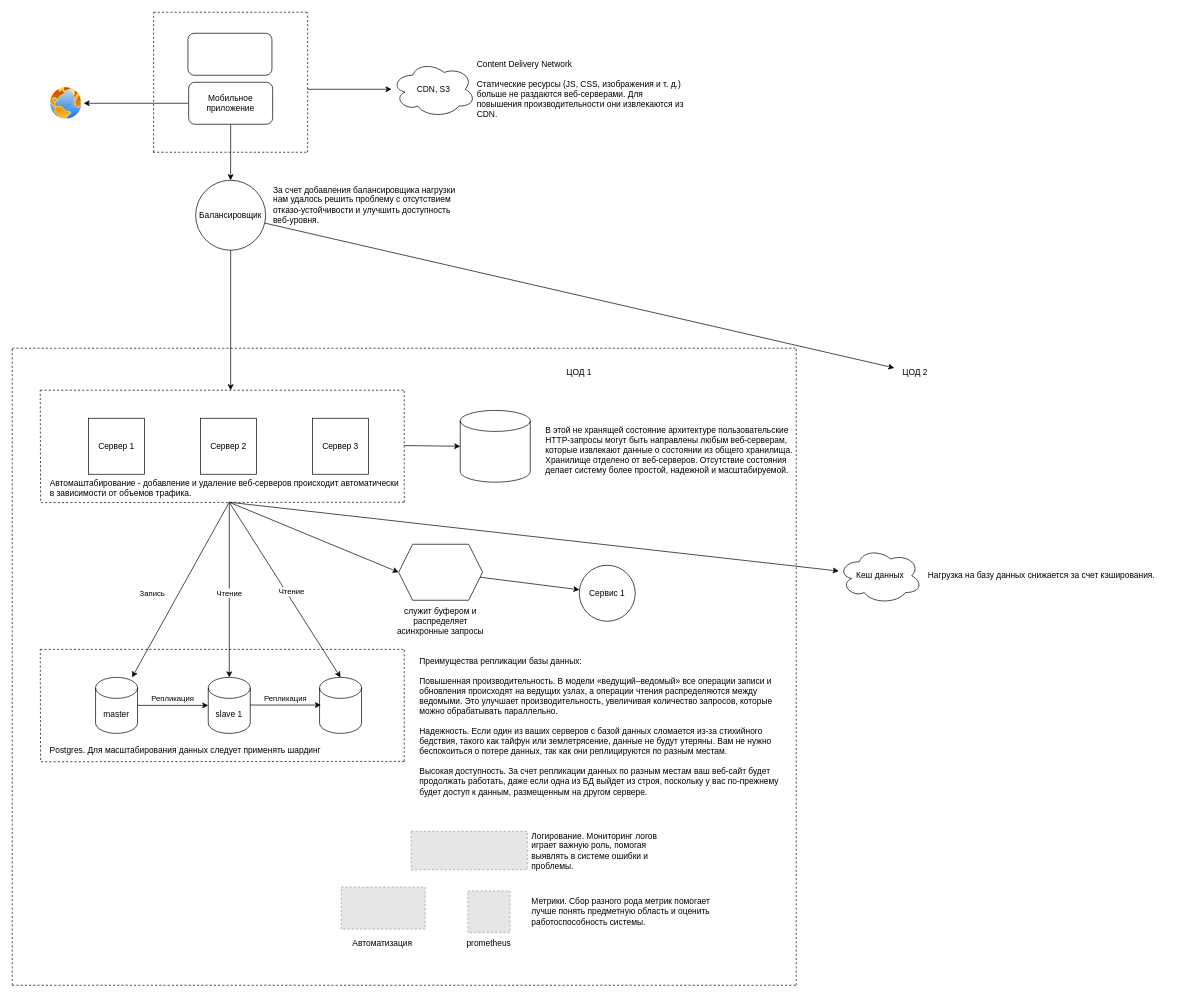
The diagram is 1180 pixels wide and 998 high, and some of its shapes have lost their labels. Grey dashed boxes stand in for pictures. Each missing label, with the centre of its shape:
"DNS" goes at (65,102).
"RabbitMQ" goes at (440,572).
"slave 2" goes at (340,705).
"Веб" goes at (229,54).
"Хранилище сессий пользователей Redis" goes at (495,446).
